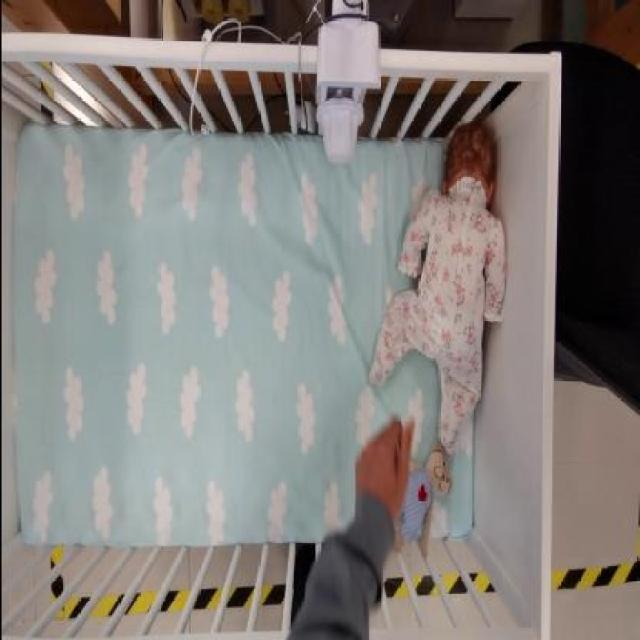baby: (363, 118, 510, 456)
